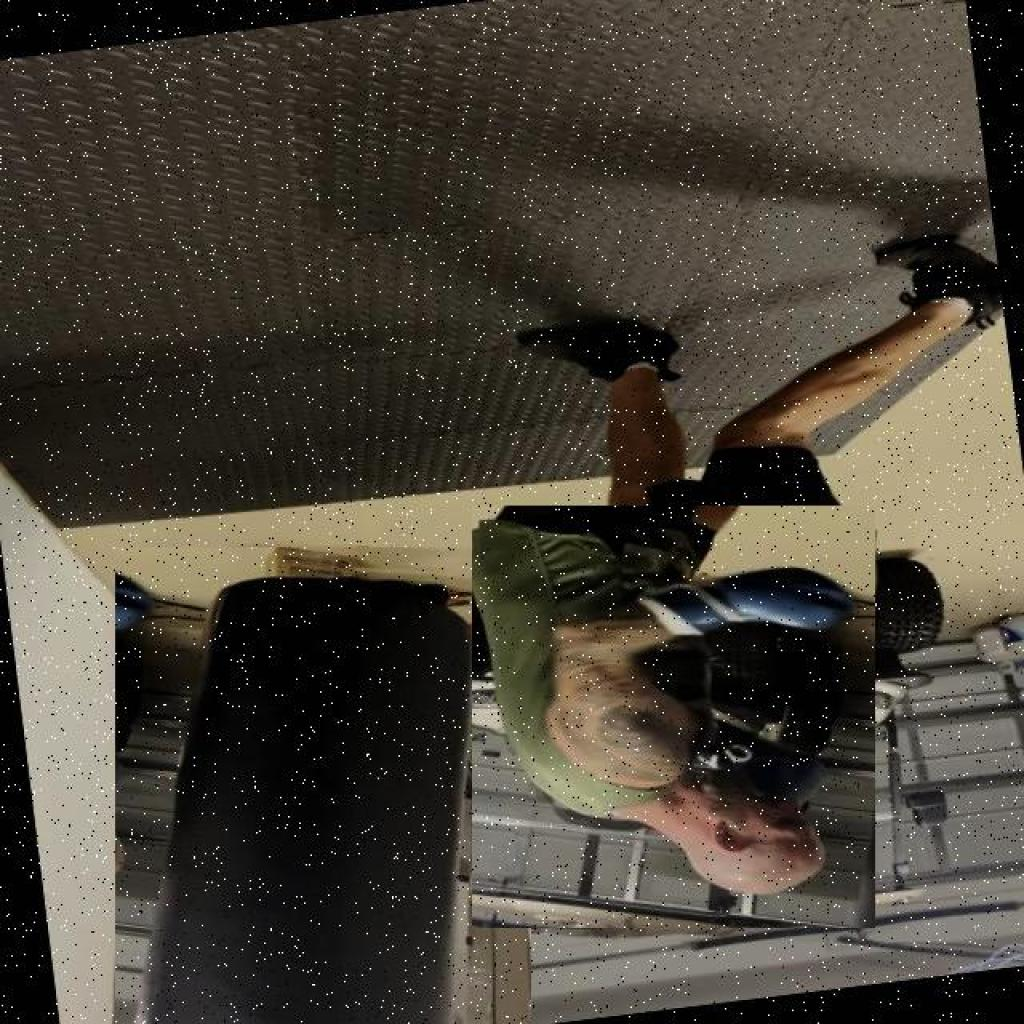bag: (115, 547, 532, 1024)
uppercut: (472, 506, 875, 928)
